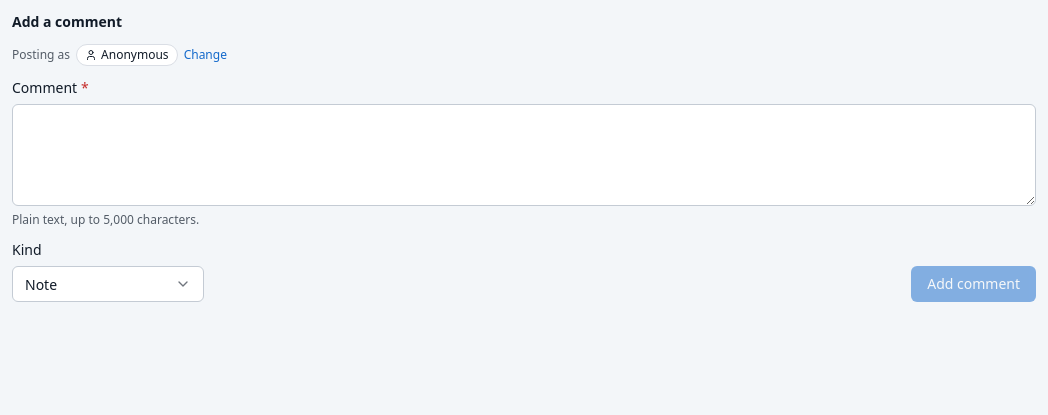
CommentComposer › puts a detail key that is not a field into the summary instead of losing it
This screenshot has width=1048, height=415.
Type "Swapped the lamp module." into the text box labelled "Comment*" at x=524, y=155, box x1=12 y1=104 x2=1036 y2=206
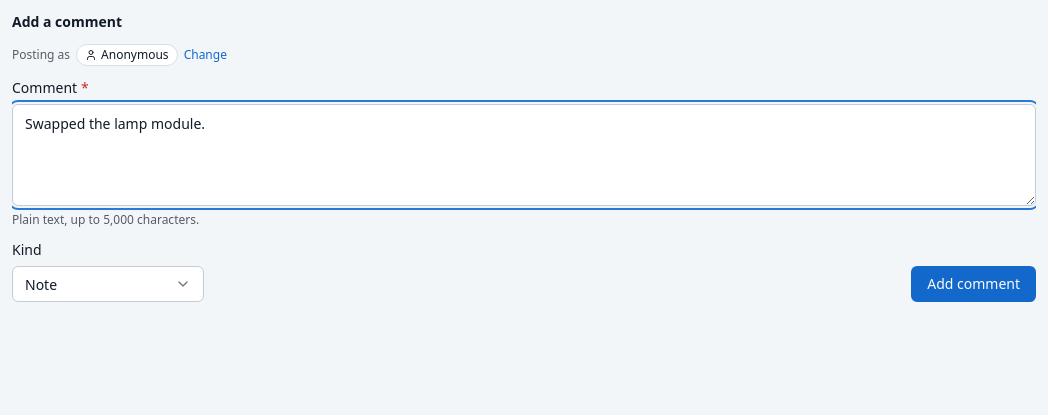
Click the button "Add comment" at x=974, y=284, box x1=911 y1=266 x2=1036 y2=302
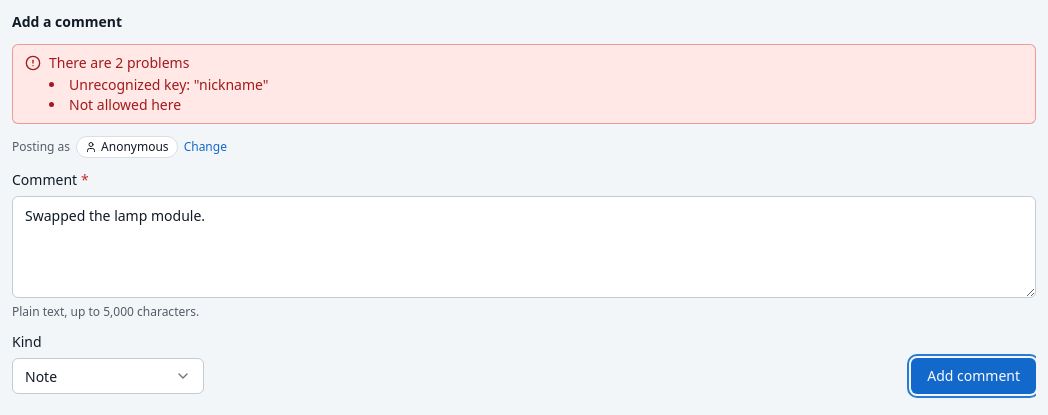
Check: the list item "Unrecognized key: \"nickname\"" is shown, box x1=49 y1=75 x2=268 y2=95
Check: the list item "Not allowed here" is shown, box x1=69 y1=95 x2=181 y2=114
Check: the message shows "There are 2 problems", box x1=49 y1=53 x2=189 y2=72
